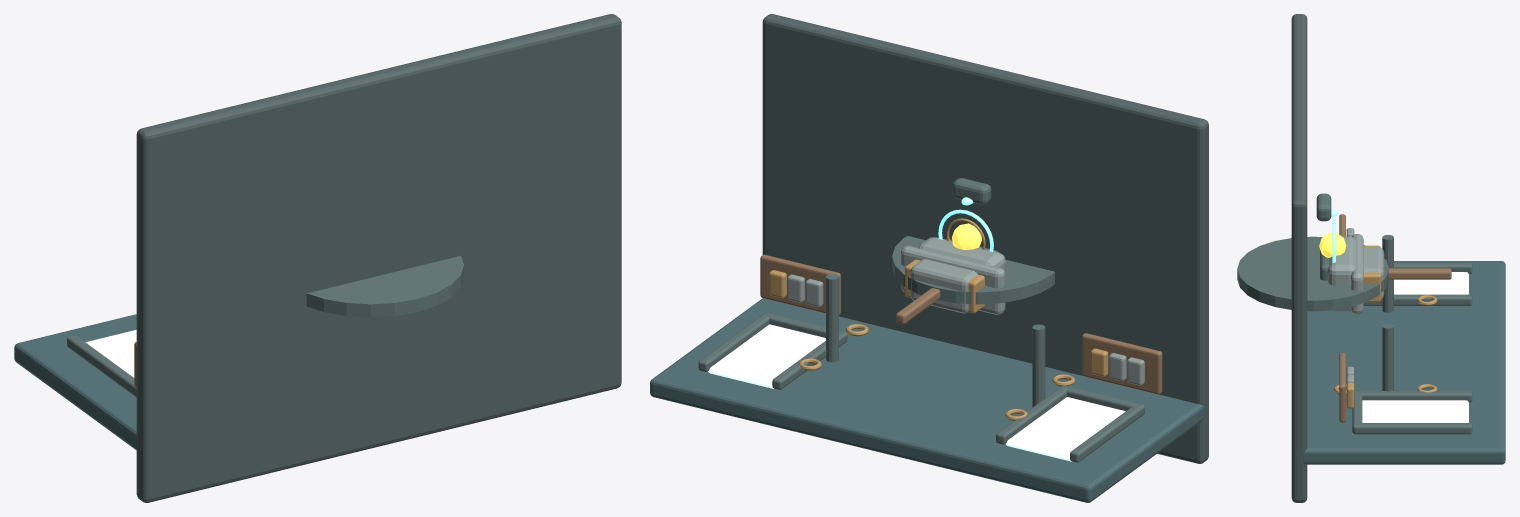
Rendered from forge.glb.
The picture shows the model from 3 angles, left to right: view 1: azimuth 30°, elevation 25°; view 2: azimuth 150°, elevation 25°; view 3: azimuth 270°, elevation 25°; orthographic projection. The views are drawn at different scales.
Visible parts, largest first — view 1: ForgeFloor, ForgeBackWall, ForgeMachineBase, Window_-1_Glow, Window_-1_FrameL; view 2: ForgeFloor, ForgeBackWall, Window_-1_Glow, Window_1_Glow, ForgeMachineBase, ForgeShelf_-1, ForgeHammerHead, ForgeShelf_1, ForgeAnvilTop, ForgeAnvil, Window_-1_FrameL, Pipe_1 (+9 smaller); view 3: ForgeBackWall, ForgeFloor, ForgeMachineBase, Window_1_Glow, Window_1_FrameR, Window_-1_Glow, Window_1_FrameL, ForgeAnvil, Window_-1_FrameR, Pipe_1, ForgeHammerHandle, ForgeAnvilTop (+8 smaller).
Part boxes in pixels (x1=…): ForgeFloor: x1=136, y1=14, x2=621, y2=502; ForgeBackWall: x1=14, y1=314, x2=137, y2=450; ForgeMachineBase: x1=306, y1=256, x2=463, y2=317; Window_-1_Glow: x1=85, y1=330, x2=136, y2=377; Window_-1_FrameL: x1=67, y1=335, x2=136, y2=397; ForgeFloor: x1=762, y1=14, x2=1208, y2=463; ForgeBackWall: x1=650, y1=298, x2=1204, y2=502; Window_-1_Glow: x1=1005, y1=397, x2=1125, y2=461; Window_1_Glow: x1=708, y1=324, x2=825, y2=388; ForgeMachineBase: x1=892, y1=236, x2=1054, y2=304; ForgeShelf_-1: x1=1082, y1=333, x2=1162, y2=394; ForgeHammerHead: x1=910, y1=259, x2=977, y2=313; ForgeShelf_1: x1=760, y1=254, x2=840, y2=314; ForgeAnvilTop: x1=901, y1=246, x2=1005, y2=314; ForgeAnvil: x1=918, y1=237, x2=1005, y2=273; Window_-1_FrameL: x1=1070, y1=404, x2=1144, y2=462; Pipe_1: x1=826, y1=274, x2=838, y2=362; ForgeBackWall: x1=1303, y1=261, x2=1505, y2=464; ForgeFloor: x1=1291, y1=14, x2=1307, y2=502; ForgeMachineBase: x1=1237, y1=236, x2=1388, y2=311; Window_1_Glow: x1=1362, y1=400, x2=1468, y2=422; Window_1_FrameR: x1=1353, y1=423, x2=1472, y2=434; Window_-1_Glow: x1=1394, y1=272, x2=1468, y2=294; Window_1_FrameL: x1=1355, y1=391, x2=1472, y2=402; ForgeAnvil: x1=1328, y1=236, x2=1355, y2=311; Window_-1_FrameR: x1=1363, y1=294, x2=1472, y2=305; Pipe_1: x1=1382, y1=324, x2=1393, y2=391; ForgeHammerHandle: x1=1388, y1=268, x2=1451, y2=279; ForgeAnvilTop: x1=1351, y1=234, x2=1363, y2=313.
Bounding box in the file's own units: 9.2 × 6.8 × 5.48.
